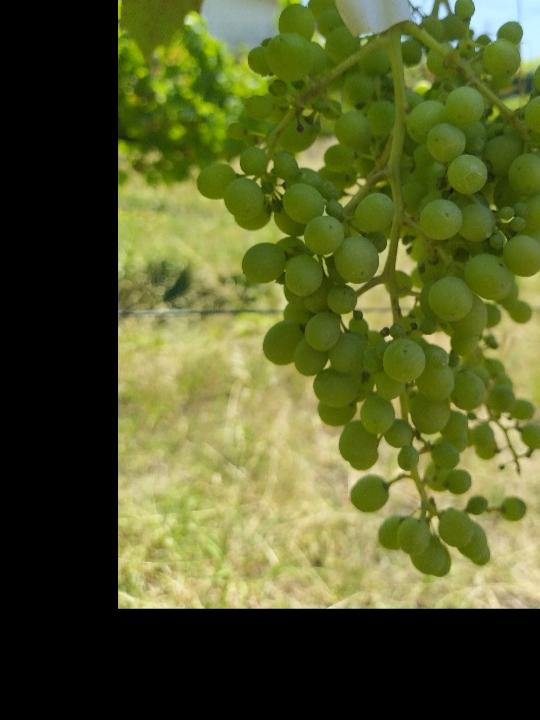grape: (187, 0, 540, 581)
